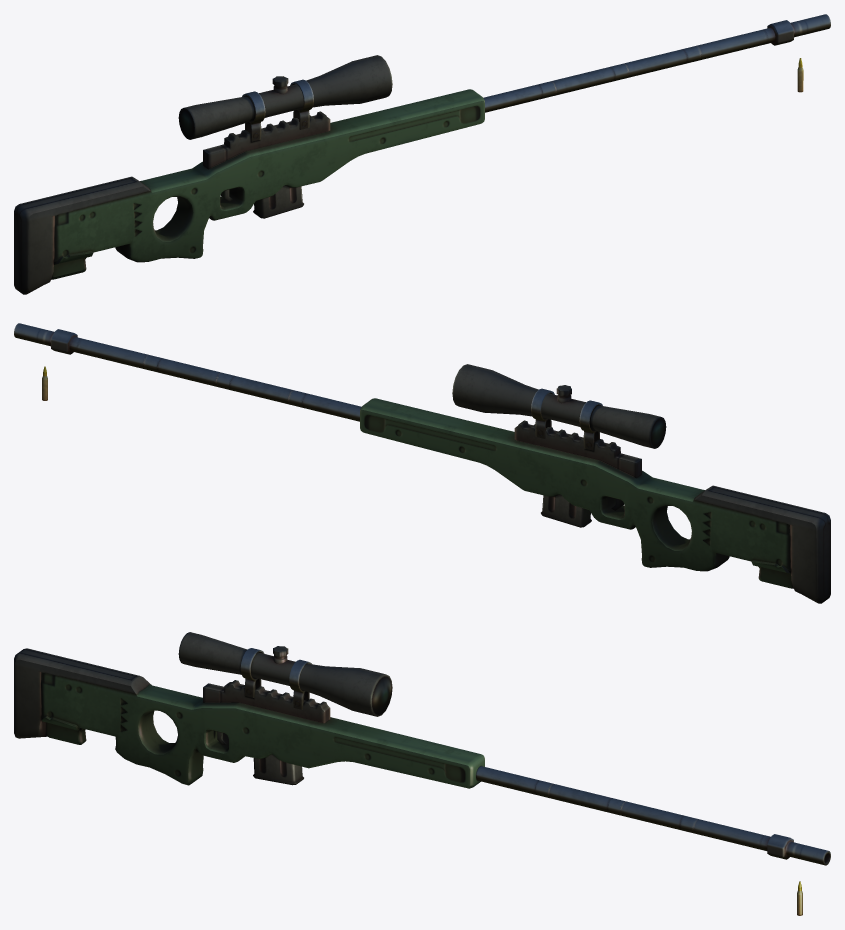
File: Sniper and Bullet.glb
The picture shows the model from 3 angles, top to bottom: view 1: azimuth 30°, elevation 25°; view 2: azimuth 150°, elevation 25°; view 3: azimuth 330°, elevation 25°; orthographic projection.
Parts seen in each view (by area): view 1: awp, sniperscope_low, snipermagazine_low, snipertendon_low.001, snipertendon_low; view 2: awp, sniperscope_low, snipermagazine_low, snipertendon_low.001, snipertendon_low; view 3: awp, sniperscope_low, snipermagazine_low, snipertendon_low.001, snipertendon_low.
Boxes of the visible parts, left/top/right/bottom form: awp: left=14, top=14, right=830, bottom=294; sniperscope_low: left=178, top=55, right=392, bottom=139; snipermagazine_low: left=253, top=185, right=303, bottom=218; snipertendon_low.001: left=290, top=79, right=313, bottom=129; snipertendon_low: left=242, top=91, right=265, bottom=141; awp: left=14, top=323, right=830, bottom=603; sniperscope_low: left=452, top=364, right=666, bottom=448; snipermagazine_low: left=541, top=494, right=591, bottom=527; snipertendon_low.001: left=531, top=388, right=554, bottom=438; snipertendon_low: left=579, top=400, right=602, bottom=450; awp: left=14, top=648, right=830, bottom=865; sniperscope_low: left=178, top=632, right=392, bottom=716; snipermagazine_low: left=253, top=754, right=303, bottom=785; snipertendon_low.001: left=289, top=659, right=311, bottom=709; snipertendon_low: left=240, top=648, right=264, bottom=698.
Size of the model in its own units: 1.13 by 0.2043 by 0.0525.
Materials: 2 (2 with a texture image).
